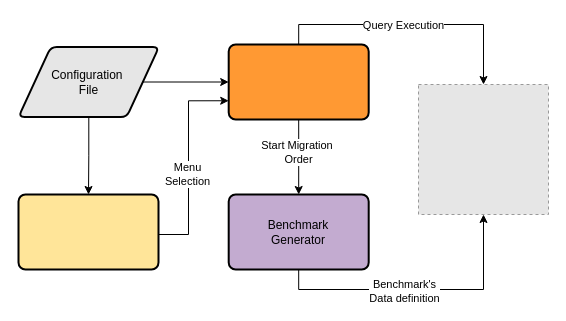
The diagram is 566 pixels wide and 321 high, and some of its shapes have lost their labels. Grey dashed boxes stand in for pictures. Each missing label, with the box of its shape:
Console: (17, 193, 159, 270)
Orchestrator: (227, 43, 369, 120)
